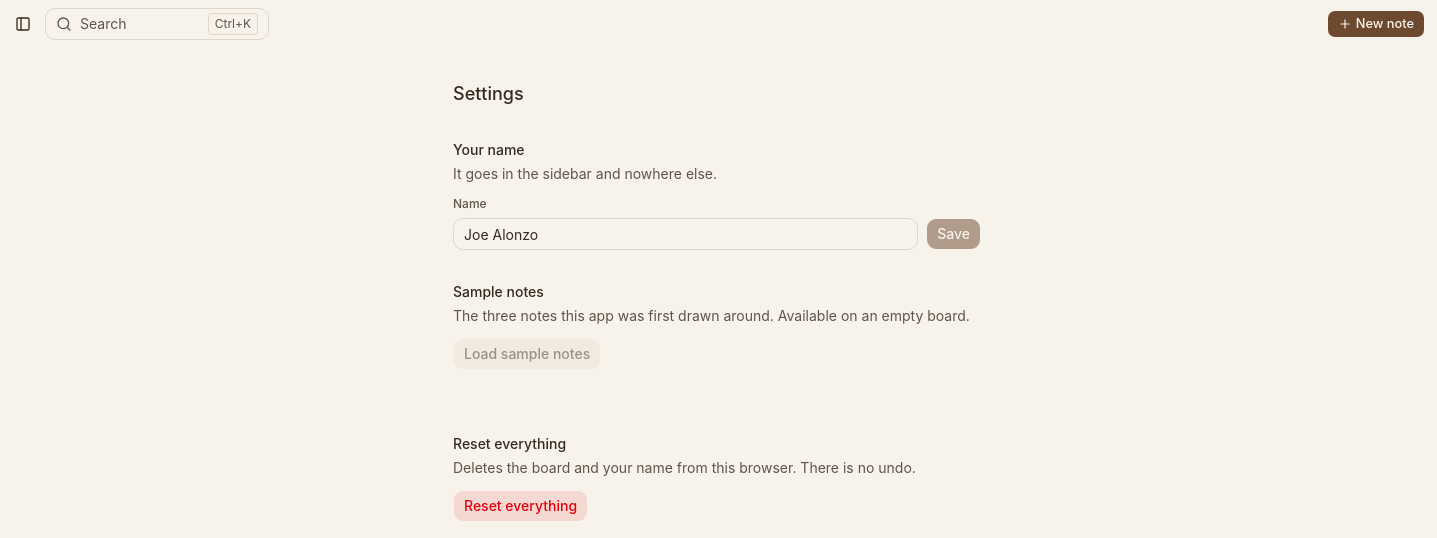
Test: T89 · Save knows whether anything actually changed › goes inert again after a save, without the field being re-mounted
Replace the text in the field labelled "Name" with "Ada Lovelace": (686, 234) [453,218,918,250]
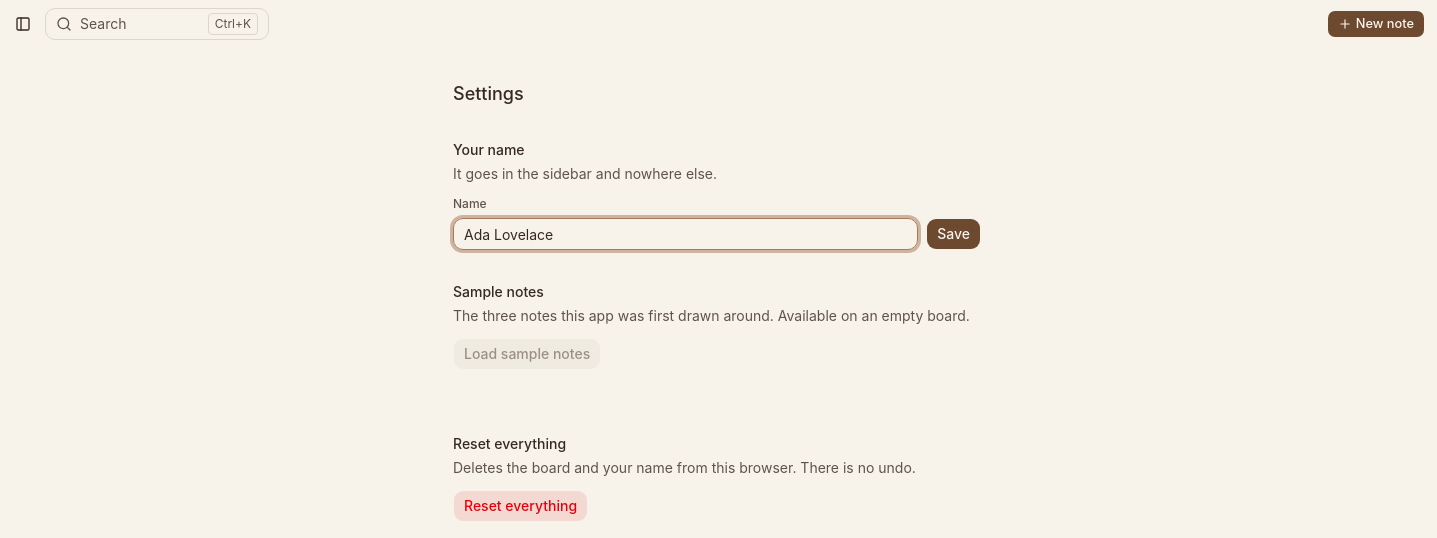
Now the button "Save" is enabled
Click the button "Save": (954, 234) [926,218,981,250]
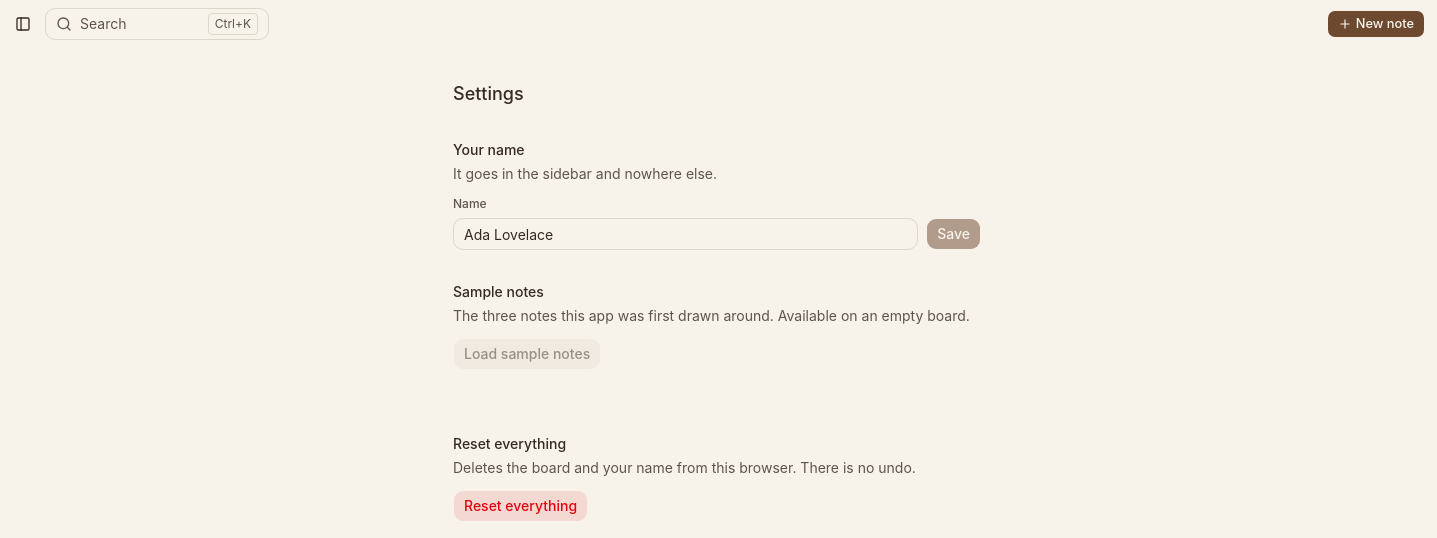
Now the button "Save" is disabled, box [926,218,981,250]
